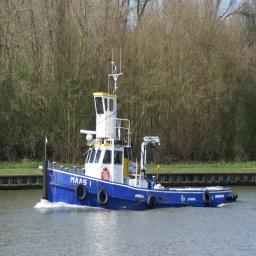tugboat: (41, 92, 241, 217)
